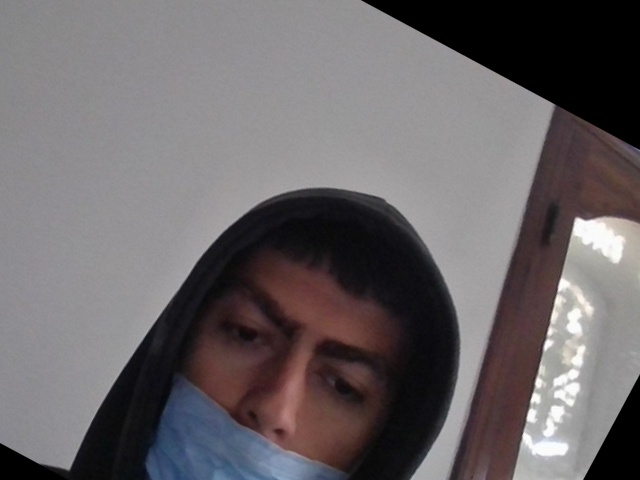mask_weared_incorrect: (111, 216, 423, 480)
